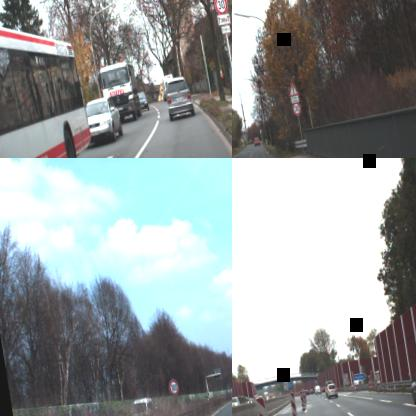DANGER: (285, 78, 300, 98)
speed limit 100: (168, 378, 180, 396)
speed limit 30: (212, 0, 228, 15), (291, 101, 302, 116)
